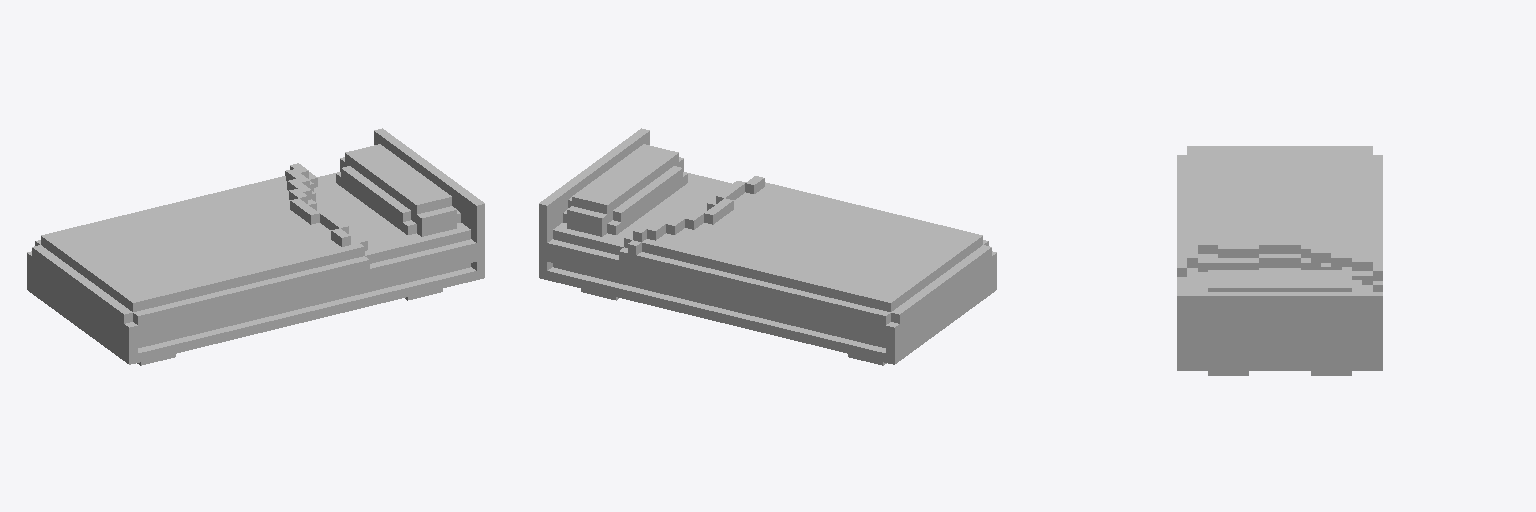
The model's file is bed.obj.
3 renders of one model, left to right at view 1: azimuth 30°, elevation 25°; view 2: azimuth 150°, elevation 25°; view 3: azimuth 270°, elevation 25°, orthographic.
Parts seen in each view (by area): view 1: bed; view 2: bed; view 3: bed.
Boxes of the visible parts, box(x1,y1,x2,y2) form: bed: box(27, 128, 484, 365); bed: box(539, 128, 996, 365); bed: box(1177, 146, 1382, 375).
Size of the model in its own units: 40 by 10 by 20.